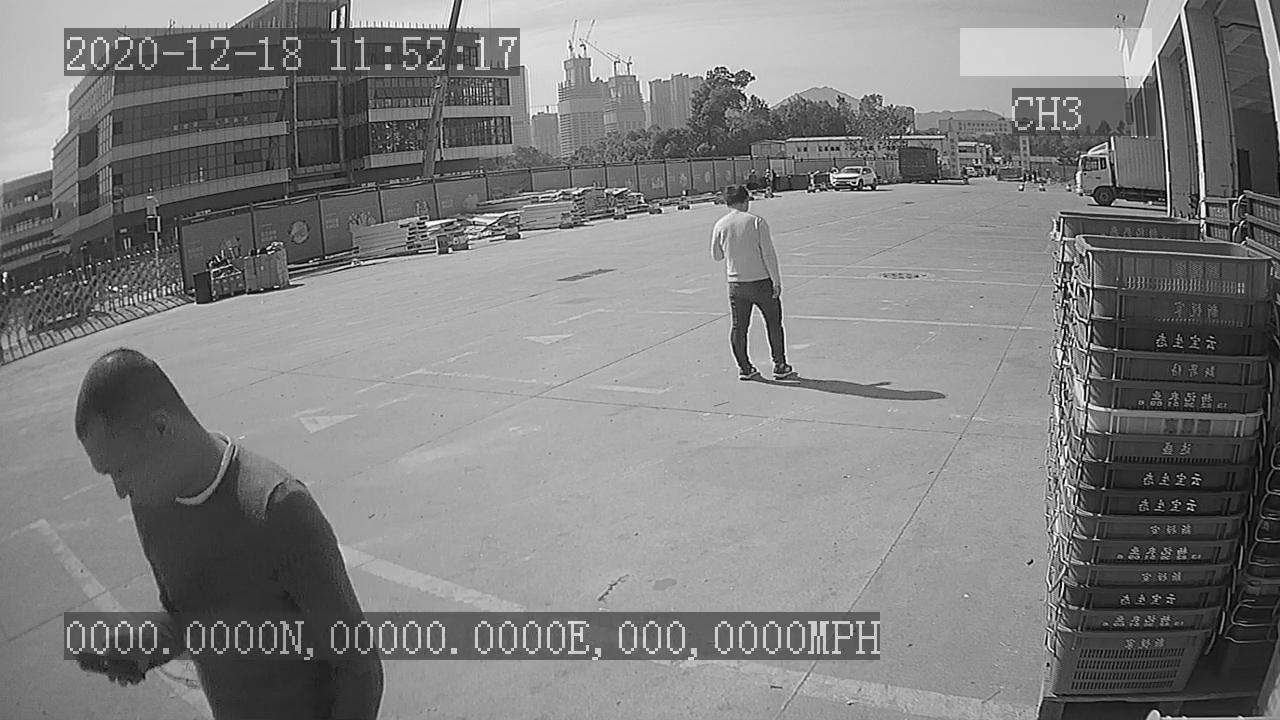person: (708, 177, 801, 386)
